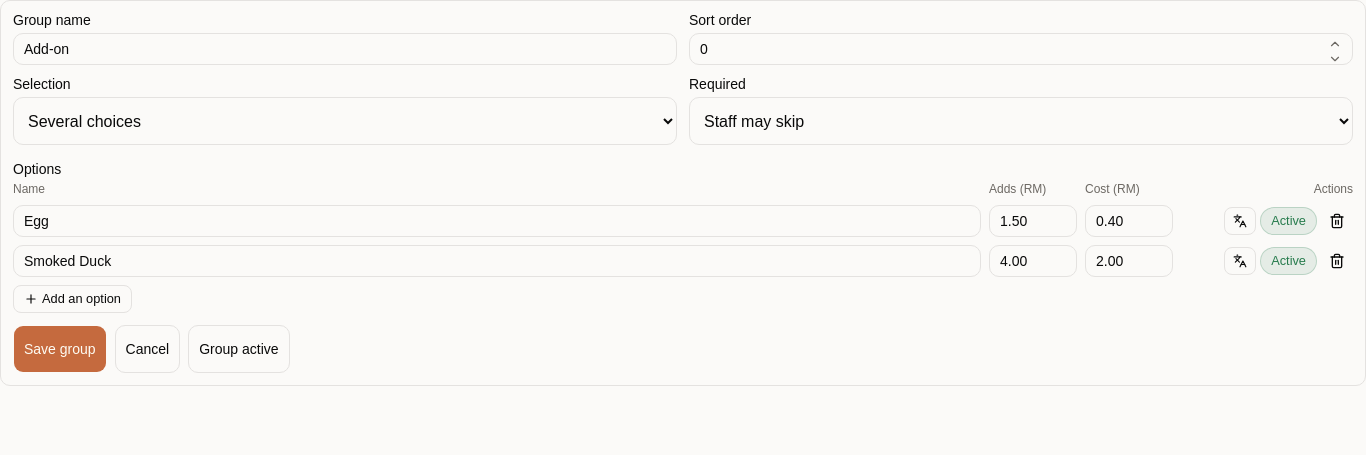
Test: an option carries a cost beside its price › refuses a malformed cost and names the option, rather than saving a guess
The image size is (1366, 455).
Replace the text in the field with test id "option-cost" with "free" at (1129, 221), box x1=1085 y1=205 x2=1173 y2=237
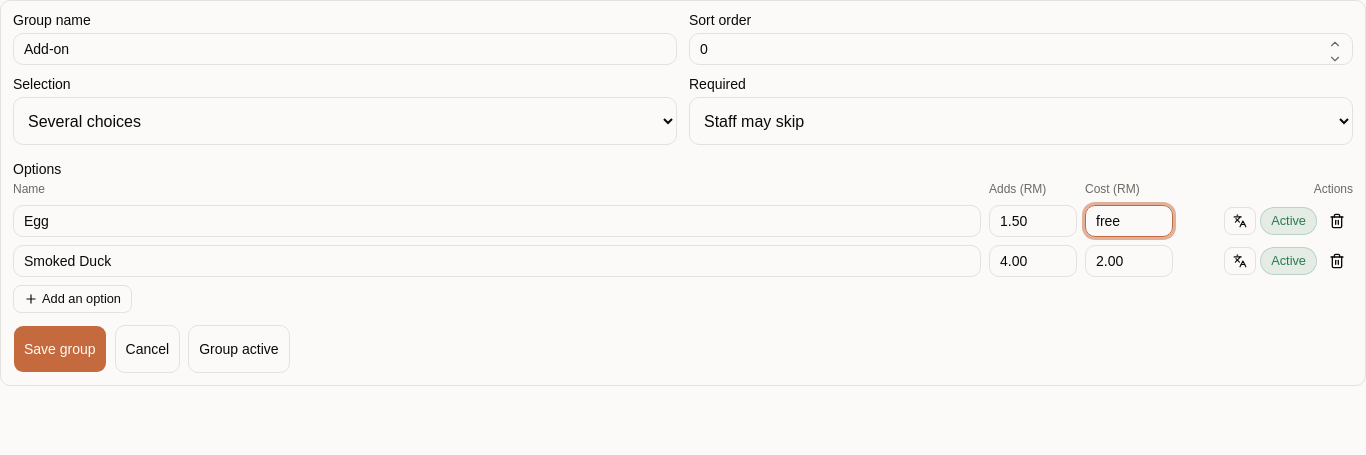
Click the button with test id "modifier-save-group" at (60, 349), box x1=13 y1=325 x2=107 y2=373
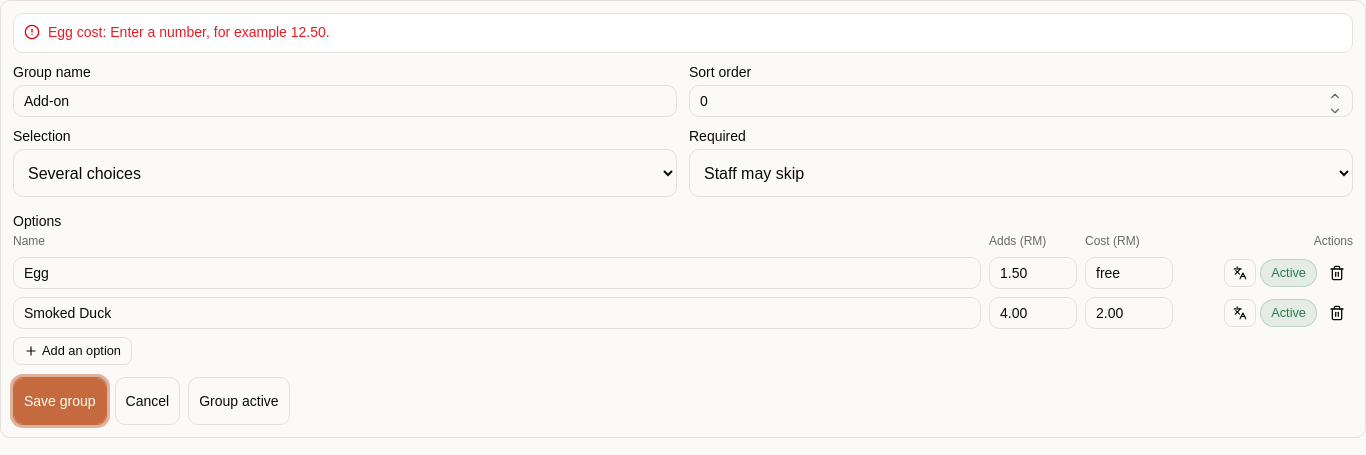
Expected: the text "Egg cost: Enter a number, for example 12.50." is shown, x1=48 y1=24 x2=330 y2=40
